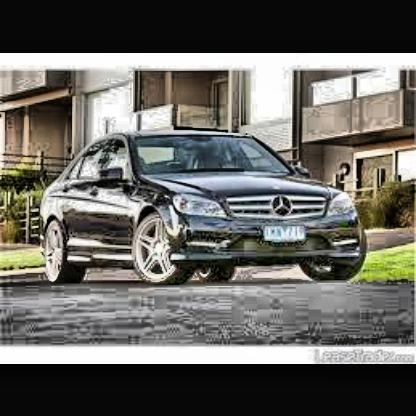Mercedes-Benz C-Class Sedan 2012: (42, 133, 366, 285)
